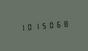eight: (59, 18, 65, 29)
five: (38, 20, 44, 30)
one: (17, 22, 23, 32), (31, 21, 37, 31)
six: (52, 19, 58, 29)
zero: (24, 21, 30, 32), (45, 19, 51, 30)
